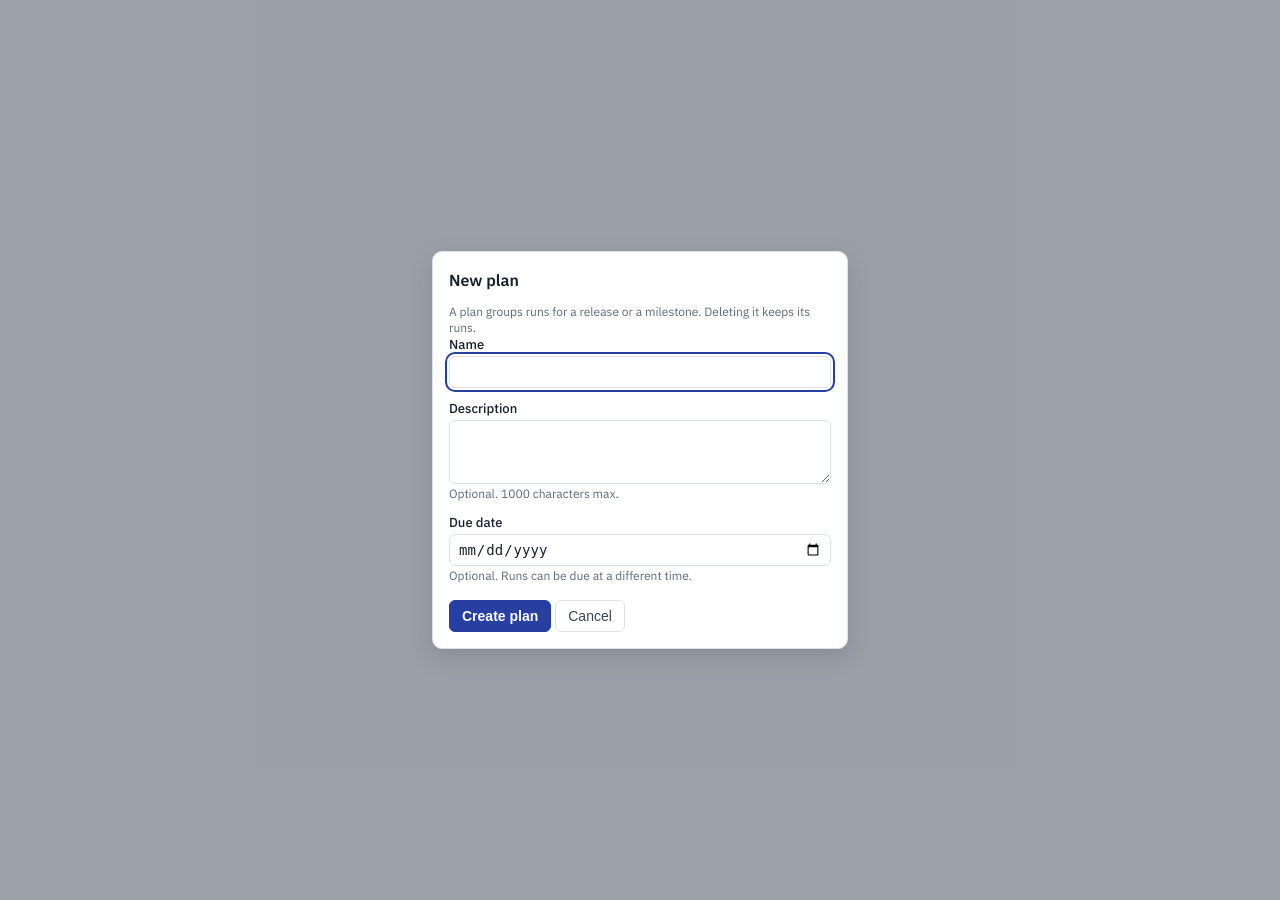
Scenario: PlanFormDialog › requires a name before submitting
Click the button "Create plan": click(500, 616) 449,600 -> 551,632
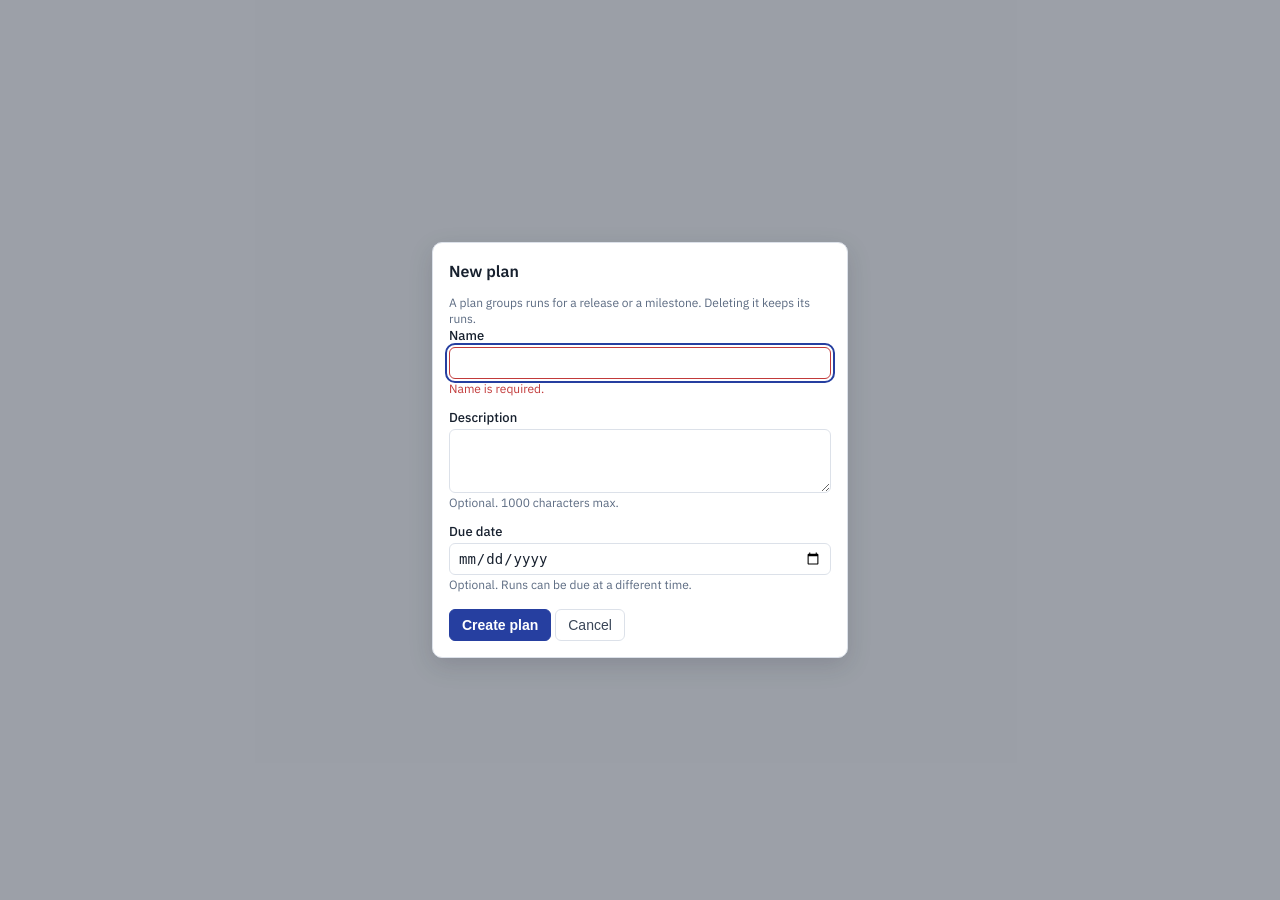
Now the text "Name is required." is shown, box 449,381 -> 544,396
